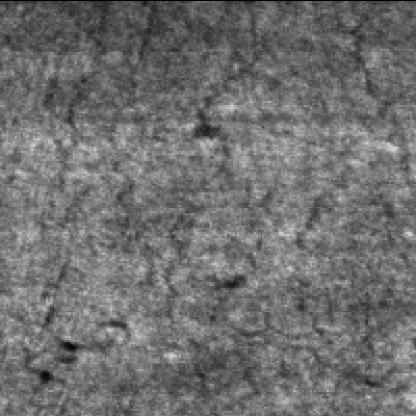crazing: (151, 176, 393, 406), (36, 4, 148, 262)
